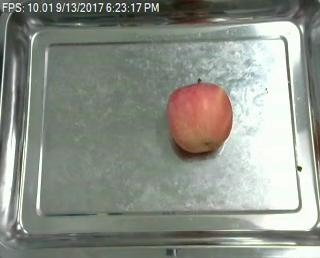apple: (166, 81, 233, 154)
